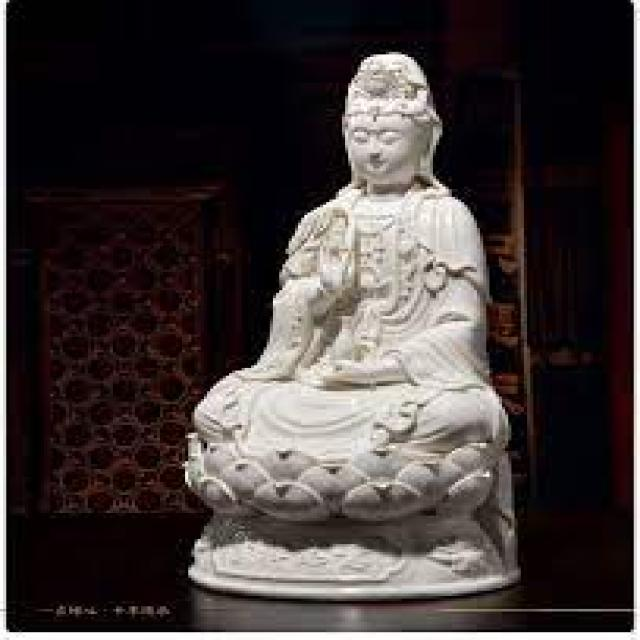Guan Yin: (262, 47, 497, 463)
